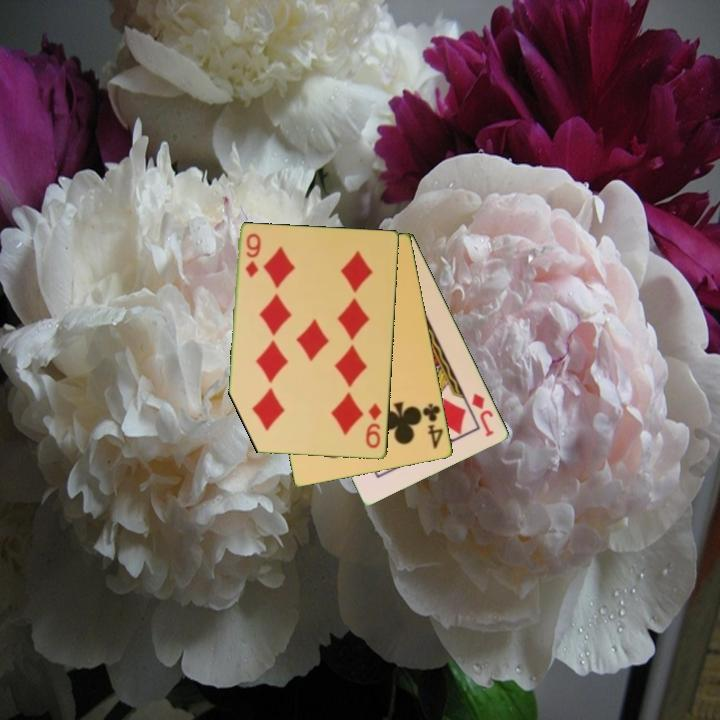4c: (419, 400, 446, 452)
9d: (363, 400, 385, 452), (242, 230, 263, 280)
Jd: (468, 390, 497, 440)
